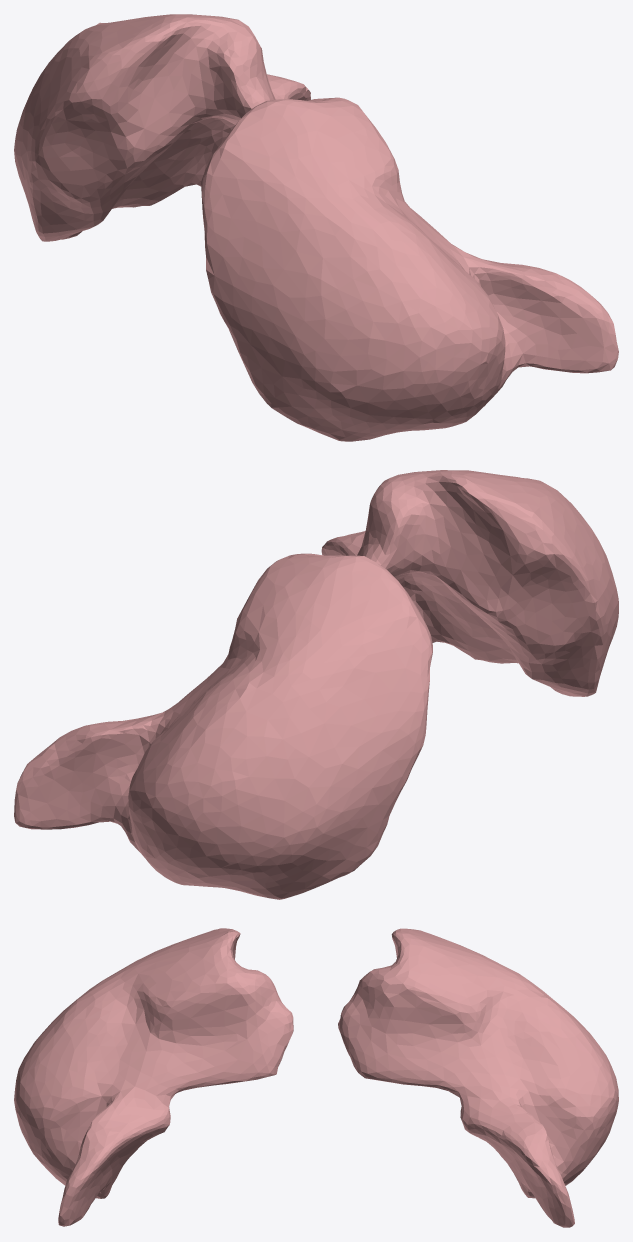
3 views of the same model, one above another, from view 1: azimuth 30°, elevation 25°; view 2: azimuth 150°, elevation 25°; view 3: azimuth 270°, elevation 25° (orthographic). The views are drawn at different scales.
Visible parts, largest first — view 1: 637.obj; view 2: 637.obj; view 3: 637.obj.
Boxes of the visible parts, box(x1,y1,x2,y2) form: 637.obj: box(14, 14, 618, 441); 637.obj: box(14, 470, 618, 899); 637.obj: box(14, 928, 618, 1227).
Bounding box in the file's own units: 2591 × 2003 × 4937.
